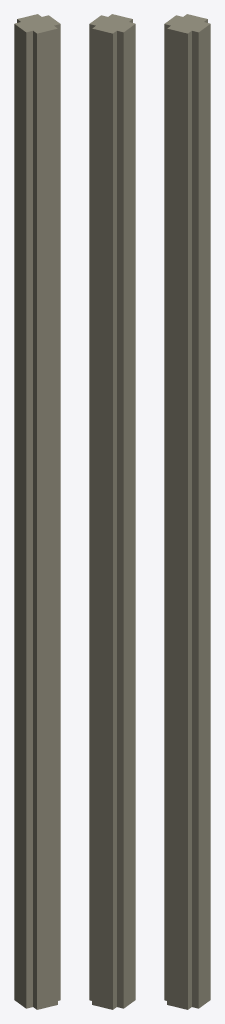
File: factory4.5-5.obj
3 views of the same model, side by side, from view 1: azimuth 30°, elevation 25°; view 2: azimuth 150°, elevation 25°; view 3: azimuth 330°, elevation 25° (orthographic).
Bounding box in the file's own units: 0.5 × 13.5 × 0.5.
1 material, 1 textured.
